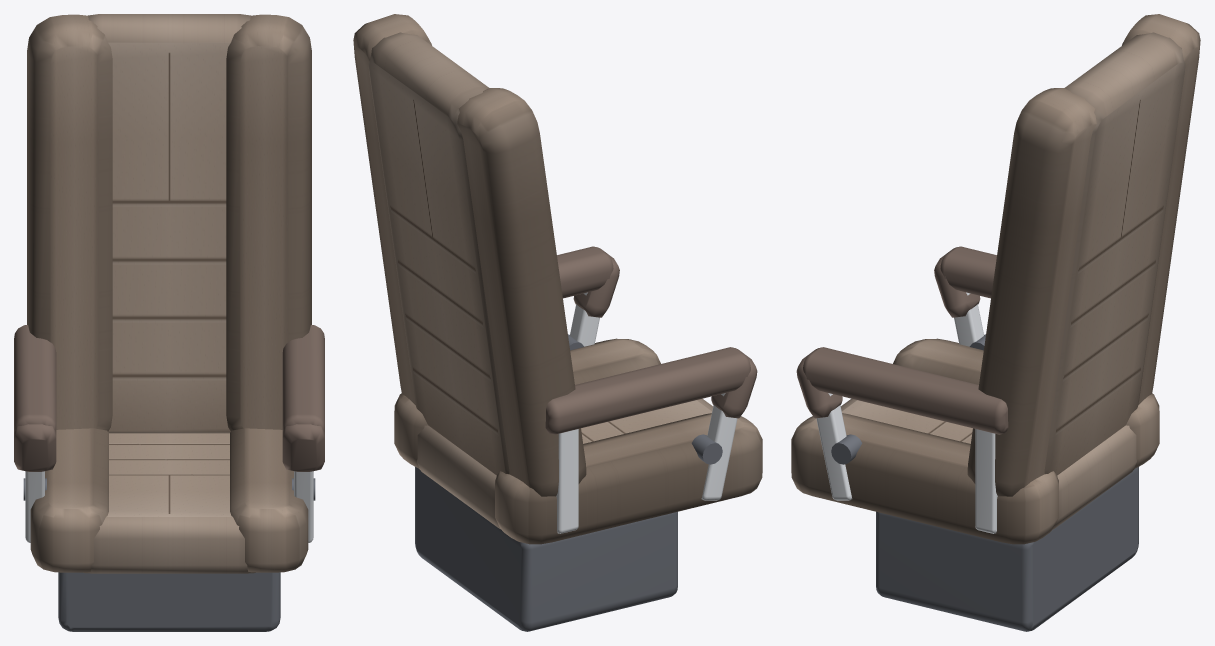
The model's file is seat_ekonomiPremium.glb.
The picture shows the model from 3 angles, left to right: view 1: azimuth 30°, elevation 25°; view 2: azimuth 150°, elevation 25°; view 3: azimuth 270°, elevation 25°; orthographic projection. The views are drawn at different scales.
Visible parts, largest first — view 1: seat_ekonomiPremium; view 2: seat_ekonomiPremium; view 3: seat_ekonomiPremium.
Part boxes in pixels (x1,y1,x2,y2): seat_ekonomiPremium: [14, 14, 324, 631]; seat_ekonomiPremium: [353, 14, 762, 631]; seat_ekonomiPremium: [791, 14, 1200, 631].
Bounding box in the file's own units: 0.7655 × 1.13 × 0.7737.
Materials: 5 (2 with a texture image).
